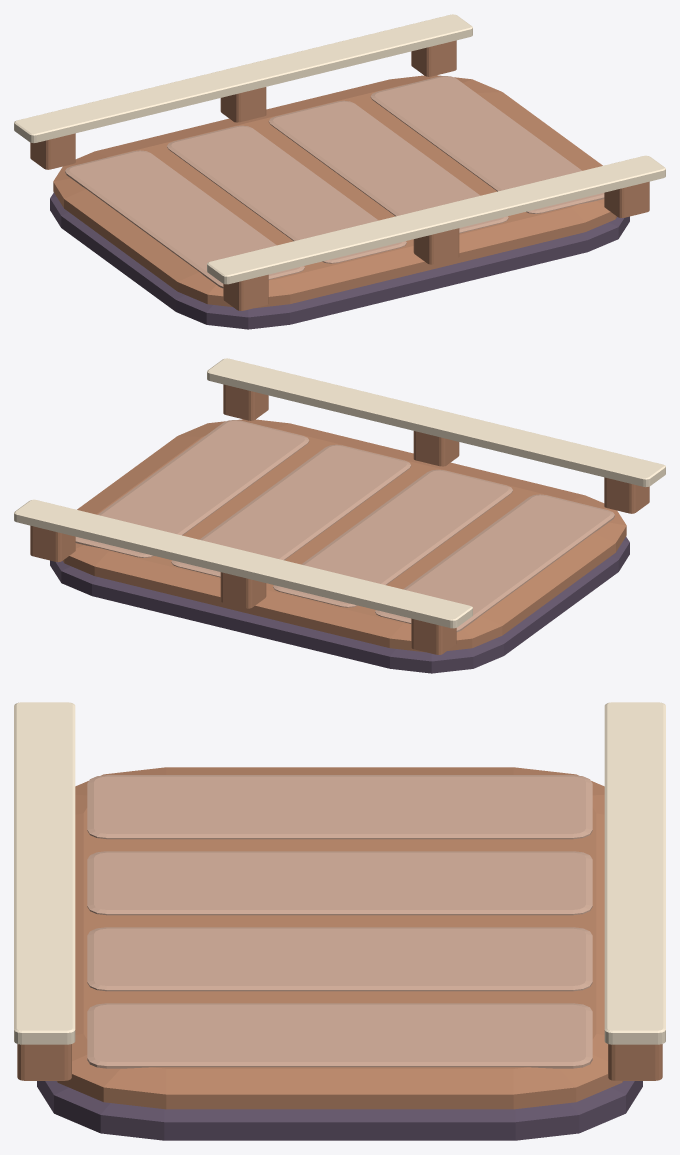
The model's file is bridge_toy.glb.
3 views of the same model, one above another, from view 1: azimuth 30°, elevation 25°; view 2: azimuth 150°, elevation 25°; view 3: azimuth 270°, elevation 25° (orthographic). The views are drawn at different scales.
Visible parts, largest first — view 1: model; view 2: model; view 3: model.
Part boxes in pixels (x1,y1,x2,y2): model: (14,14,665,329); model: (14,358,665,673); model: (14,702,665,1140).
Bounding box in the file's own units: 2.4 × 0.4 × 2.
